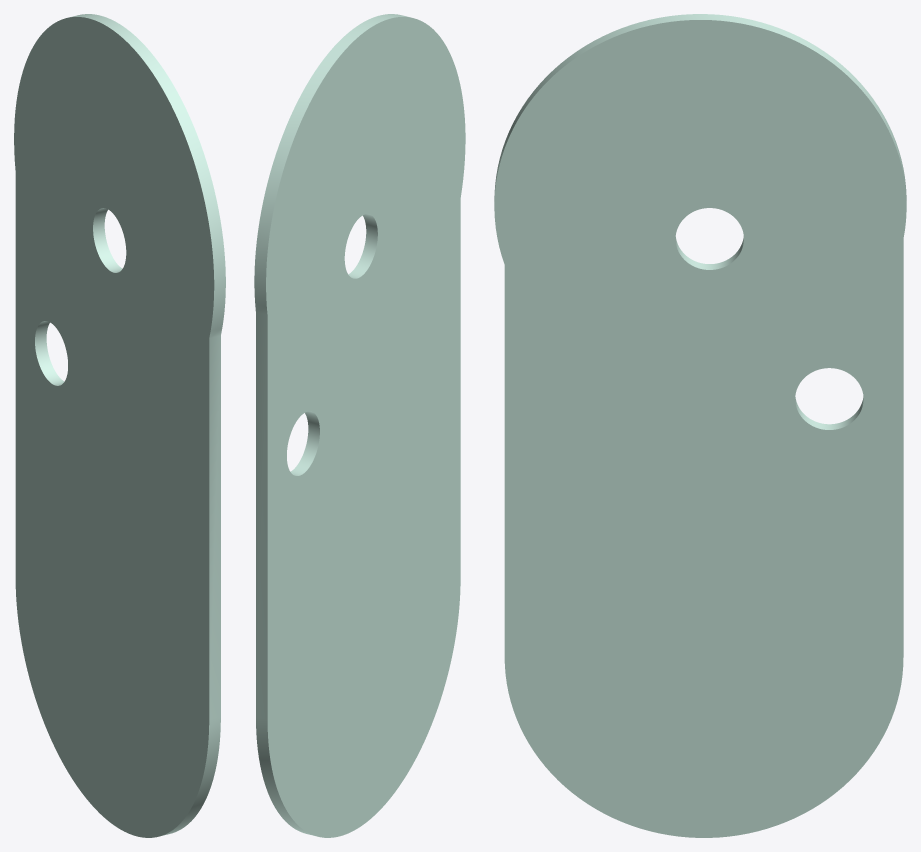
3 views of the same model, side by side, from view 1: azimuth 30°, elevation 25°; view 2: azimuth 150°, elevation 25°; view 3: azimuth 270°, elevation 25° (orthographic). The views are drawn at different scales.
Visible parts, largest first — view 1: Renderer Node; view 2: Renderer Node; view 3: Renderer Node.
Part boxes in pixels (x1,y1,x2,y2): Renderer Node: [14, 14, 225, 837]; Renderer Node: [254, 14, 465, 837]; Renderer Node: [494, 14, 906, 837].
Bounding box in the file's own units: 0.0313 × 2.03 × 0.9279.
